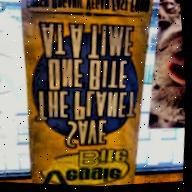boar: (140, 6, 188, 127)
